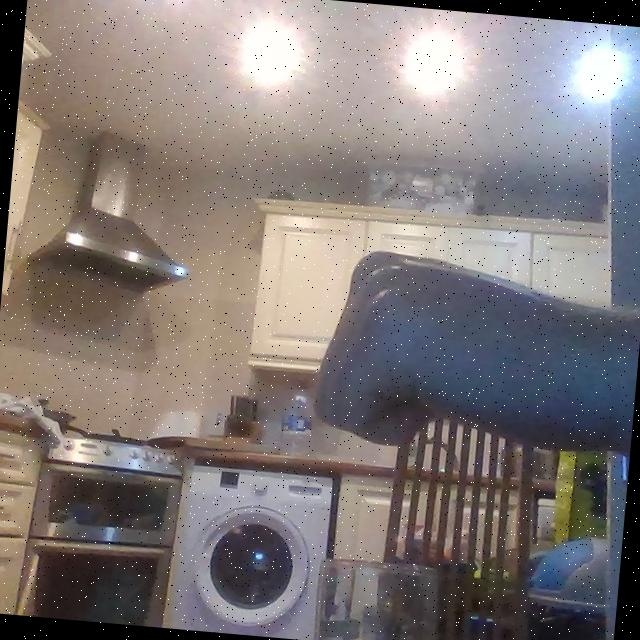rock: (304, 239, 620, 482)
